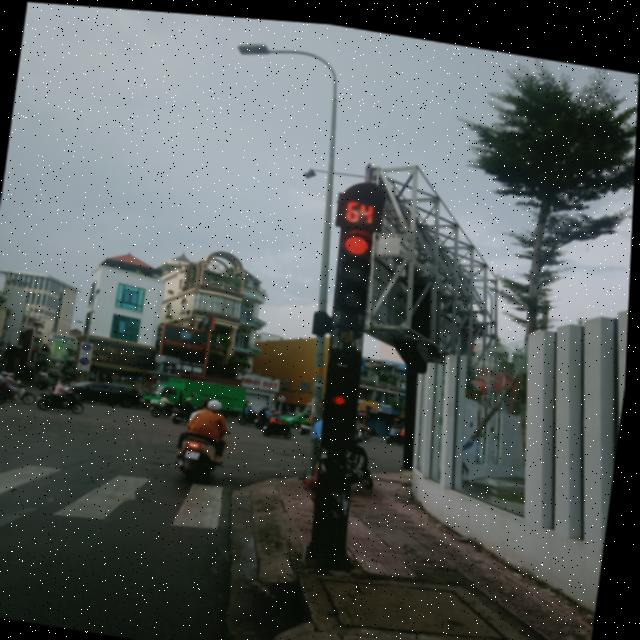Red: (332, 217, 380, 313), (325, 378, 360, 440)
